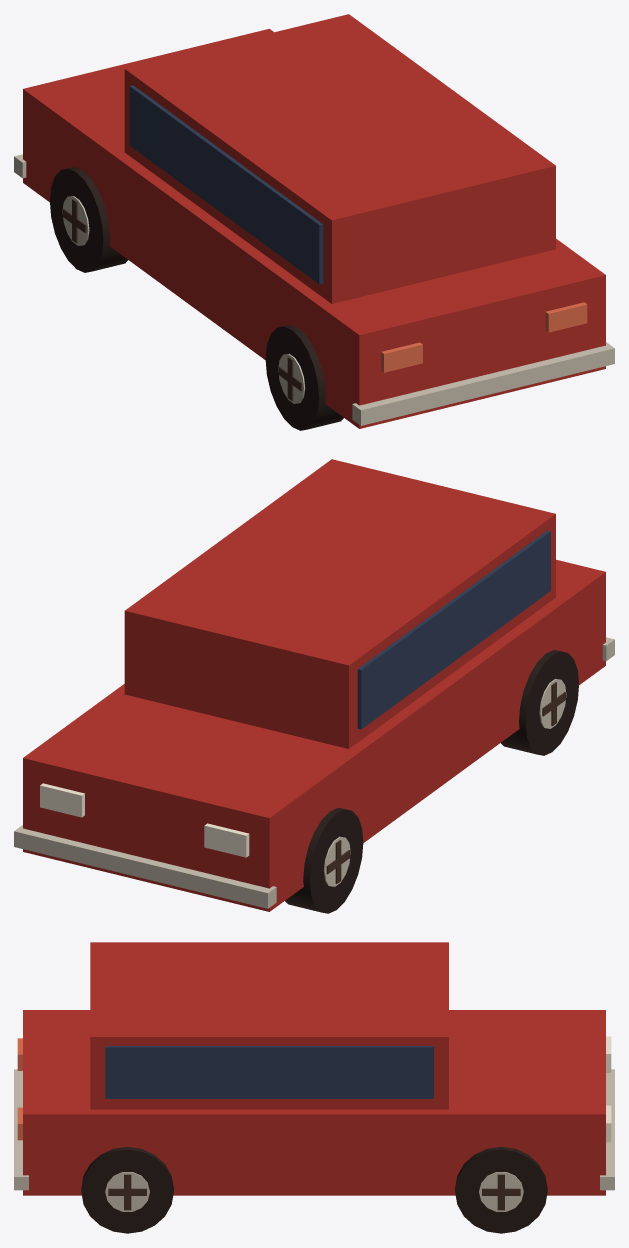
File: hatchback.glb
3 renders of one model, top to bottom at view 1: azimuth 30°, elevation 25°; view 2: azimuth 150°, elevation 25°; view 3: azimuth 270°, elevation 25°, orthographic. The views are drawn at different scales.
Visible parts, largest first — view 1: Box2, Box1, Box3, Box5, Part6, Part8, Box7, Box9; view 2: Box2, Box1, Box3, Box4, Part8, Part6, Box8, Box6; view 3: Box1, Box2, Box3, Part2, Part4, Box5, Box4.
Part boxes in pixels (<box>): Box2: <box>124,14,555,303</box>; Box1: <box>23,28,605,428</box>; Box3: <box>129,85,323,284</box>; Box5: <box>352,342,614,425</box>; Part6: <box>265,325,343,430</box>; Part8: <box>50,167,127,272</box>; Box7: <box>545,302,587,332</box>; Box9: <box>381,342,422,372</box>; Box2: <box>124,459,555,748</box>; Box1: <box>23,559,605,911</box>; Box3: <box>357,530,550,729</box>; Box4: <box>14,825,276,908</box>; Part8: <box>285,808,363,913</box>; Part6: <box>501,650,578,755</box>; Box8: <box>204,823,249,857</box>; Box6: <box>40,783,84,817</box>; Box1: <box>23,1010,605,1195</box>; Box2: <box>90,942,448,1109</box>; Box3: <box>105,1046,433,1098</box>; Part2: <box>81,1147,173,1233</box>; Part4: <box>455,1147,547,1233</box>; Box5: <box>14,1069,28,1190</box>; Box4: <box>600,1069,614,1190</box>.
Size of the model in its own units: 1.77 by 1.4 by 4.02.
